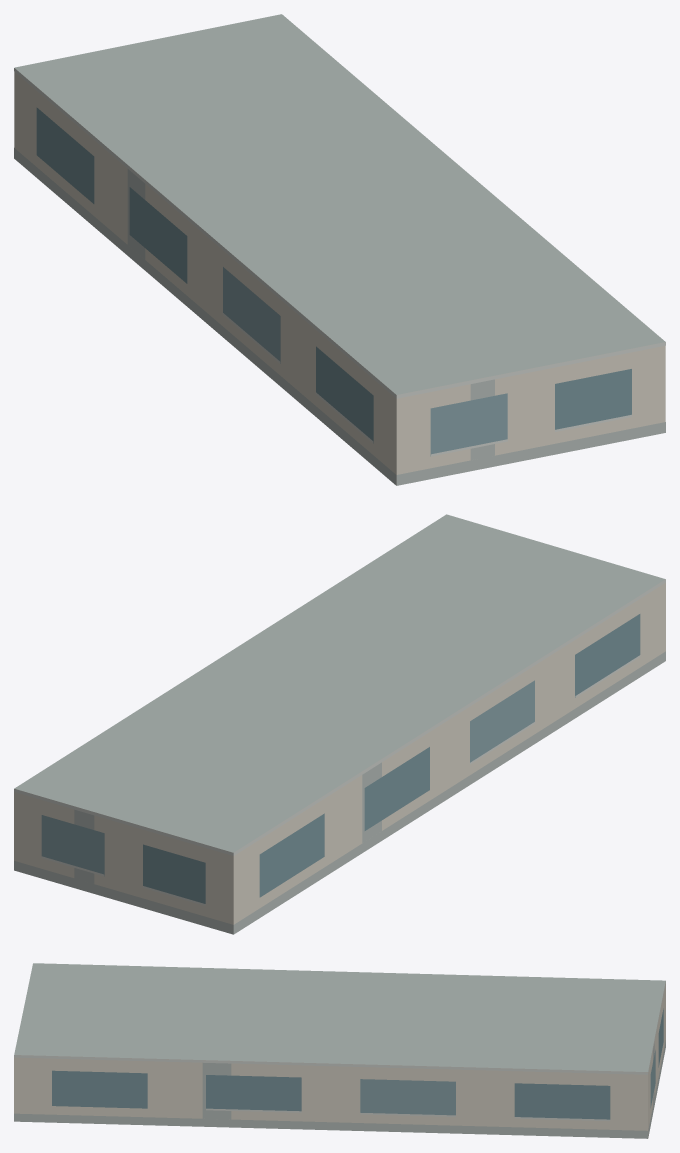
Rendered from survey-upis-32511858.glb.
The picture shows the model from 3 angles, top to bottom: view 1: azimuth 30°, elevation 25°; view 2: azimuth 150°, elevation 25°; view 3: azimuth 270°, elevation 25°; orthographic projection. The views are drawn at different scales.
Visible parts, largest first — view 1: survey-upis-32511858.tmp; view 2: survey-upis-32511858.tmp; view 3: survey-upis-32511858.tmp.
Part boxes in pixels (x1,y1,x2,y2): survey-upis-32511858.tmp: (14, 14, 665, 485); survey-upis-32511858.tmp: (14, 514, 665, 934); survey-upis-32511858.tmp: (14, 963, 665, 1138).
Bounding box in the file's own units: 10.71 × 3.05 × 27.05.
